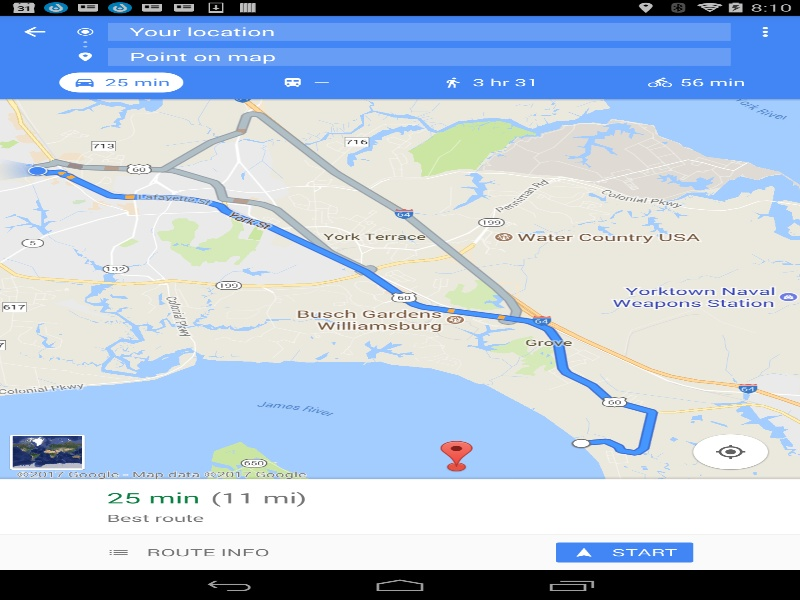Button: (12, 435, 82, 468)
Input: (108, 15, 730, 44), (108, 44, 730, 71)
